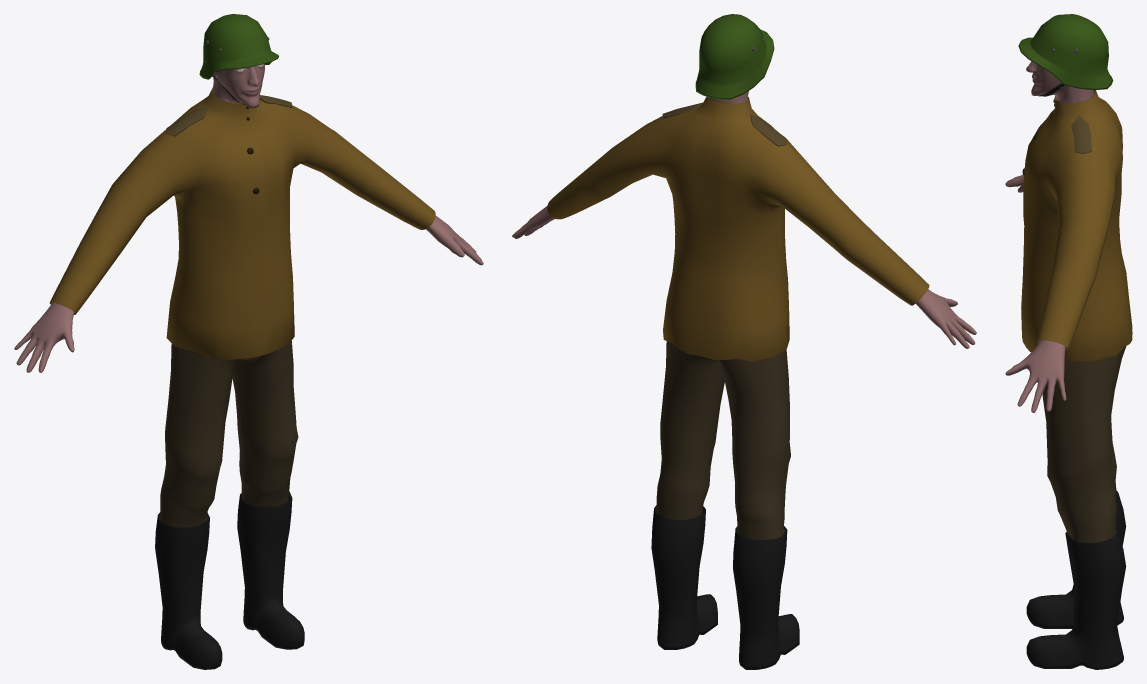
File: strelok.fbx
The picture shows the model from 3 angles, left to right: view 1: azimuth 30°, elevation 25°; view 2: azimuth 150°, elevation 25°; view 3: azimuth 270°, elevation 25°; orthographic projection.
Parts seen in each view (by area): view 1: sterlok; view 2: sterlok; view 3: sterlok.
Part boxes in pixels (x1=…): sterlok: x1=14, y1=14, x2=483, y2=669; sterlok: x1=512, y1=14, x2=976, y2=669; sterlok: x1=1005, y1=14, x2=1132, y2=669.
Bounding box in the file's own units: 142 × 186 × 34.21.
